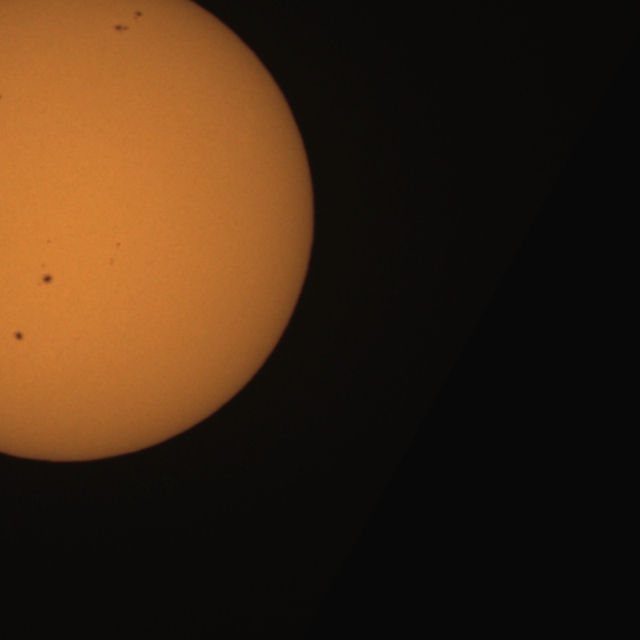sunspot: (112, 12, 144, 35), (37, 264, 54, 287), (113, 22, 130, 33), (12, 330, 25, 342), (132, 10, 144, 21), (108, 257, 116, 267), (45, 238, 52, 245), (115, 241, 122, 248)
